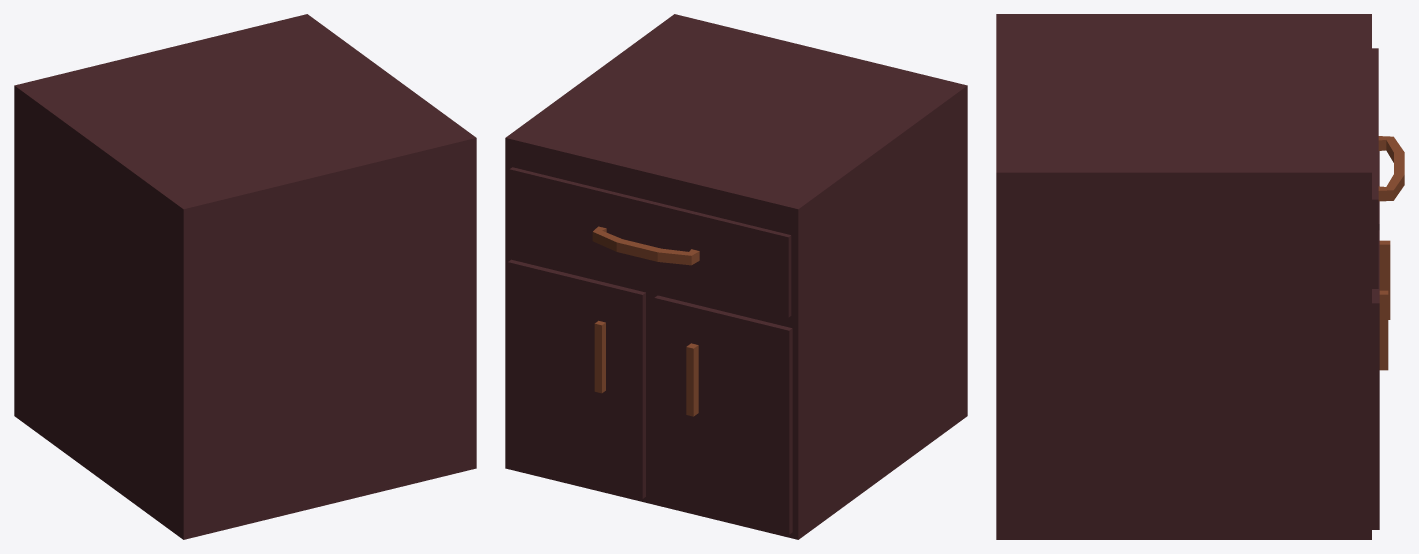
File: Dresser.fbx
The picture shows the model from 3 angles, left to right: view 1: azimuth 30°, elevation 25°; view 2: azimuth 150°, elevation 25°; view 3: azimuth 270°, elevation 25°; orthographic projection. The views are drawn at different scales.
Visible parts, largest first — view 1: Dresser; view 2: Dresser; view 3: Dresser.
Boxes of the visible parts, bbox=[...] form: Dresser: bbox=[14, 14, 476, 539]; Dresser: bbox=[505, 14, 967, 539]; Dresser: bbox=[996, 14, 1404, 539].
Bounding box in the file's own units: 1880 × 2027 × 2043.
